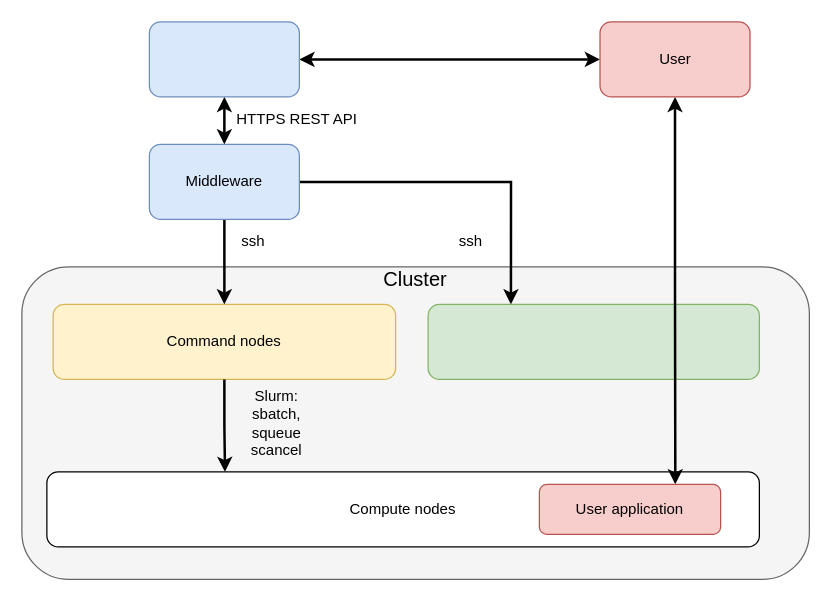
Image size: 831x601. Some labels were removed from this diagram. Here are the shapes that lost their labels. From the top down, the centre of each, then its label:
At [223,59]: "bwVisu Web".
At [593,341]: "Gateway nodes".
